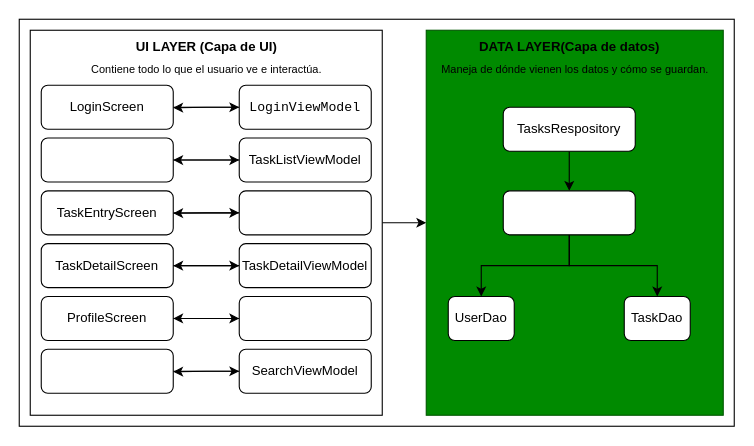
Image size: 754x446. Some labels were removed from this diagram. Here are the shapes that lost their labels. From the top down, the box of each, then its label:
(40, 137, 173, 182): TaskListScreen
(238, 190, 371, 235): TaskEntryViewModel
(502, 190, 635, 235): Room Database (DataSource)
(238, 295, 371, 340): ProfileViewModel
(40, 348, 173, 393): SearchScreen
